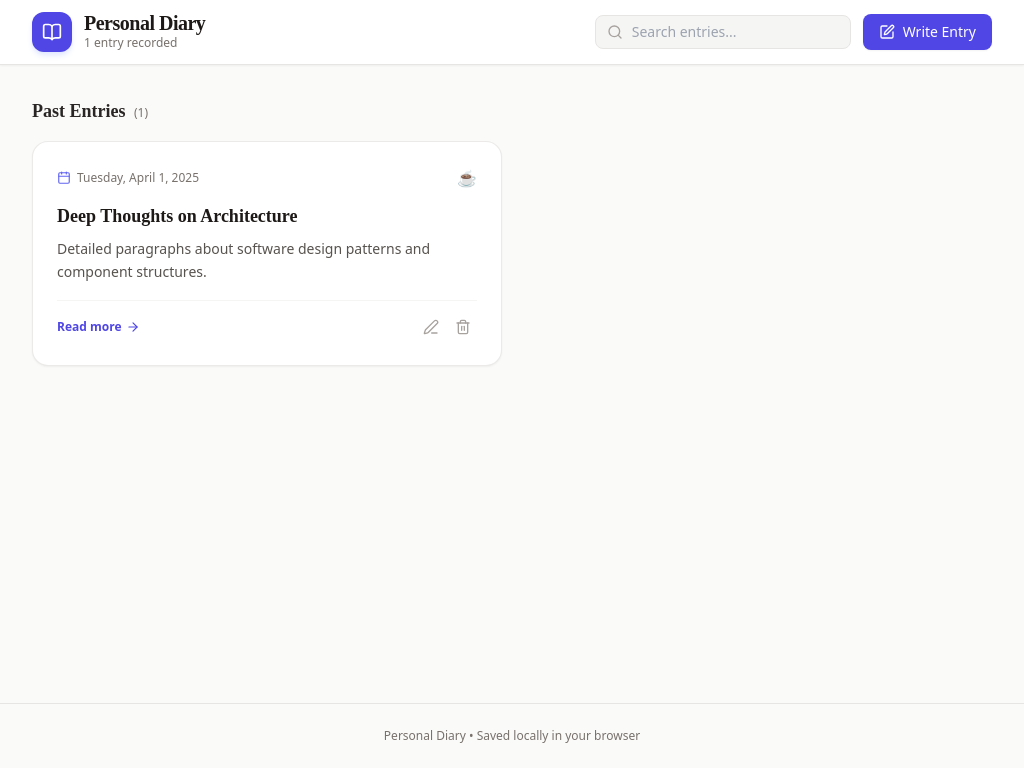
Test: Personal Diary App › opens and closes entry detail modal when viewing past entries
// Click "Read more"
Click the button "Read more": {"x": 98, "y": 326} [57,318,140,334]
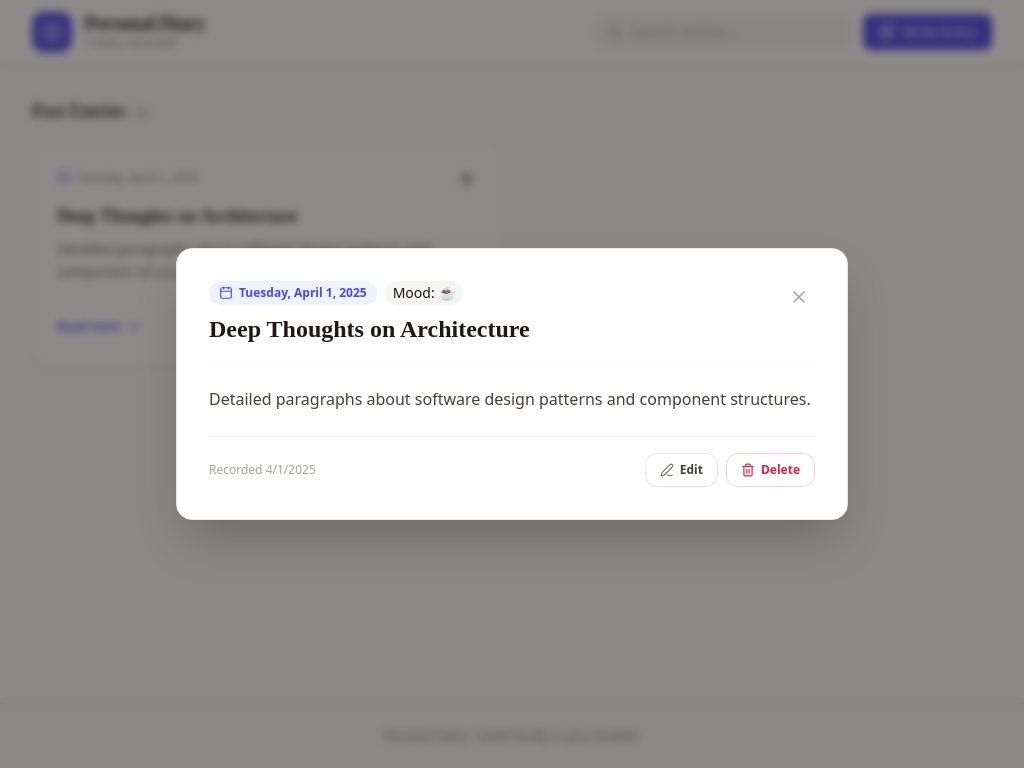
Check: the dialog is shown
Check: the heading "Deep Thoughts on Architecture" is shown, box [209,309,530,345]
Check: the text "Detailed paragraphs about software design patterns" is shown, box [209,388,811,410]
// Close modal
Click the button named "Close modal": {"x": 799, "y": 297} [783,281,815,313]
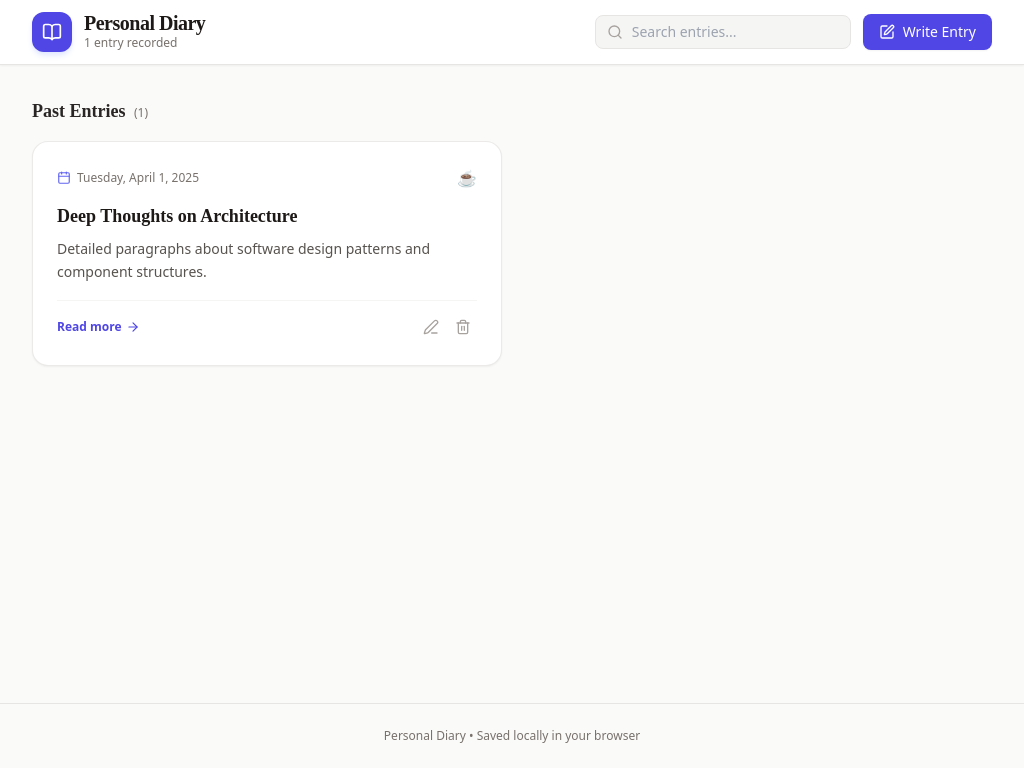
Check: the dialog is gone
